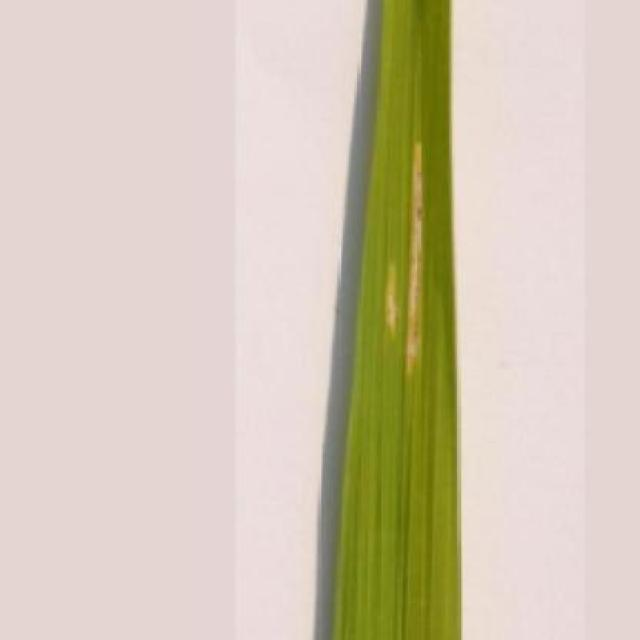Brown_Spot: (327, 0, 468, 640)
